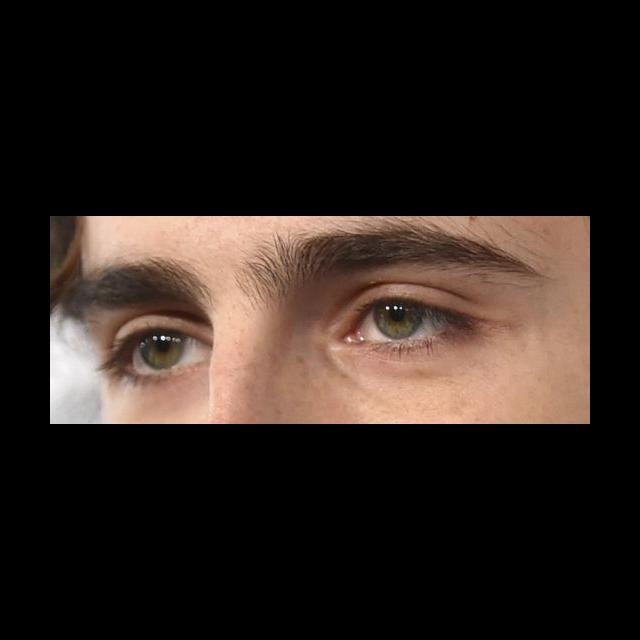eye: (357, 298, 460, 343), (125, 328, 211, 377)
iris: (139, 330, 188, 370), (376, 303, 422, 339)
